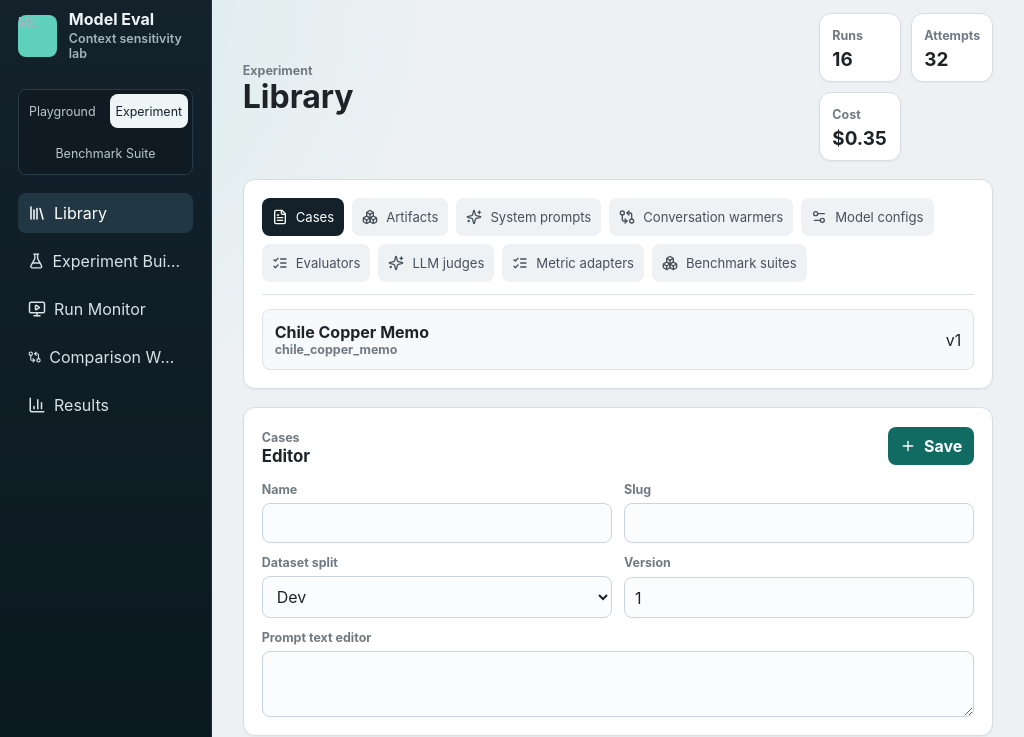
App experiment builder › shows inline validation when a required dimension is missing
This screenshot has width=1024, height=737.
Click the button "Experiment Builder". click: (106, 261)
box: [18, 241, 193, 281]
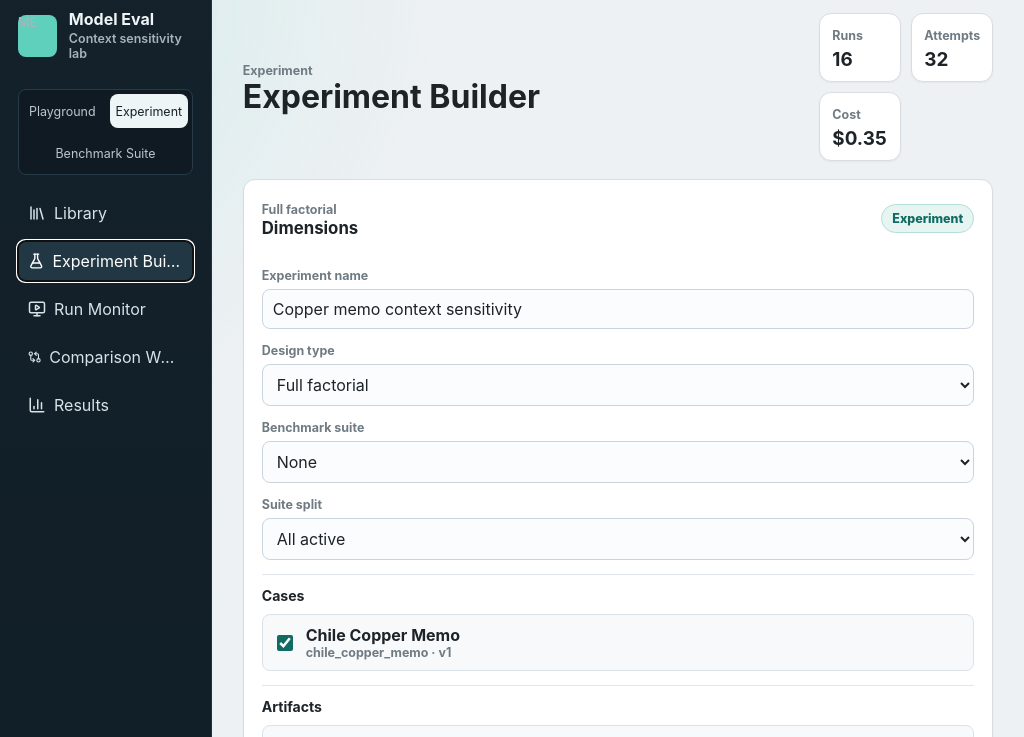
Click the checkbox labelled "Chile Copper Memo chile_copper_memo · v1". click: (285, 642)
box: [277, 634, 293, 650]
(page scrolled)
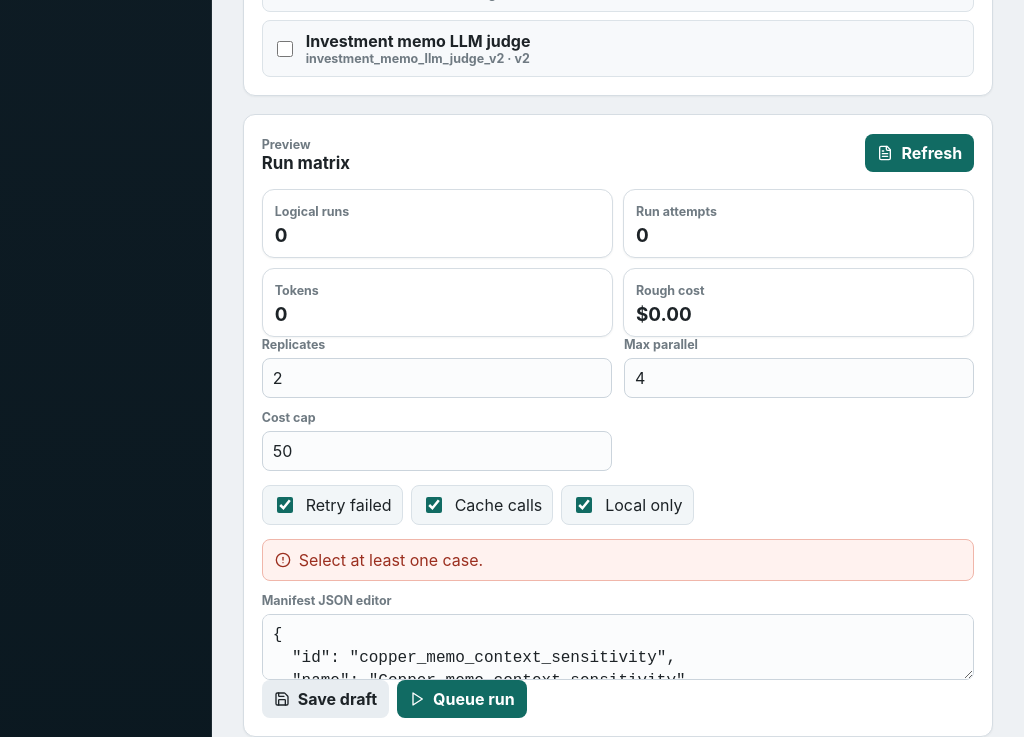
Check: the message reads "Select at least one case.", box [299, 550, 483, 570]
